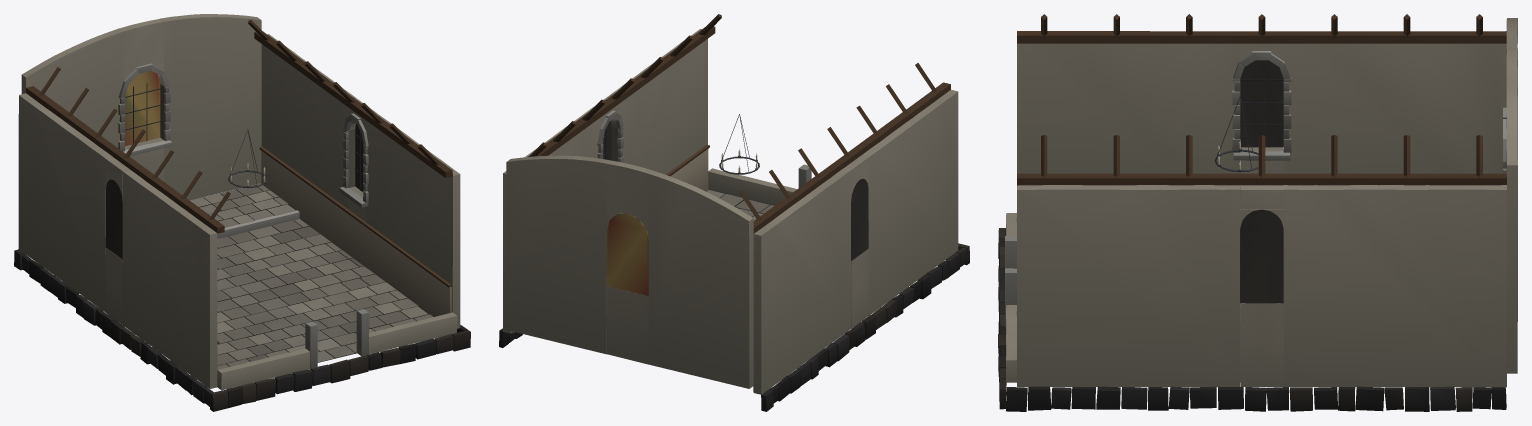
Rendered from ph_int_church_room.glb.
3 renders of one model, left to right at view 1: azimuth 30°, elevation 25°; view 2: azimuth 150°, elevation 25°; view 3: azimuth 270°, elevation 25°, orthographic. The views are drawn at different scales.
Parts seen in each view (by area): view 1: ph_int_church_room; view 2: ph_int_church_room; view 3: ph_int_church_room.
Part boxes in pixels (box(x1,y1,x2,y2)): ph_int_church_room: box(14, 14, 470, 411); ph_int_church_room: box(499, 14, 969, 411); ph_int_church_room: box(998, 14, 1517, 411).
Bounding box in the file's own units: 7.1 × 5.46 × 9.55.
